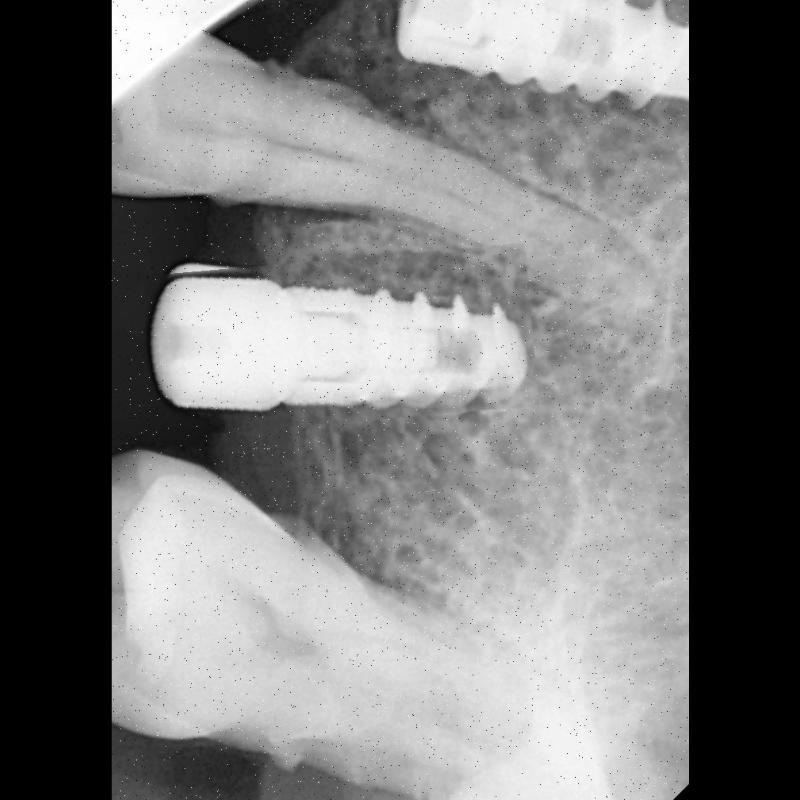NORIS: (145, 252, 535, 430)
